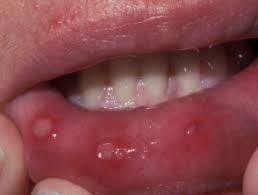Ulcer: (83, 125, 143, 178), (19, 110, 66, 156)
